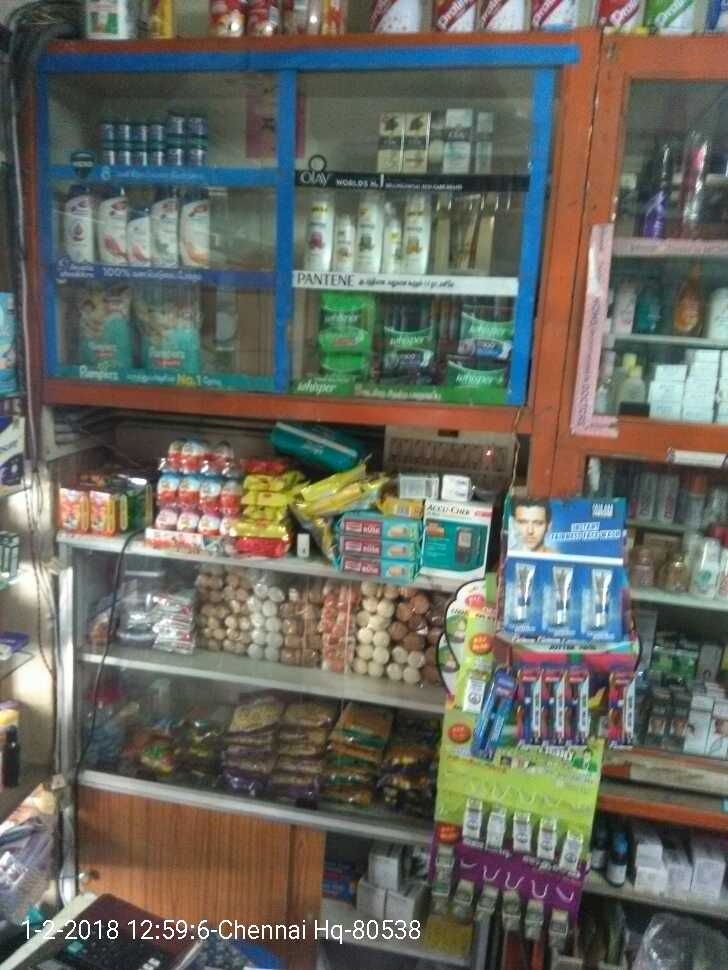vicks: (95, 102, 218, 172)
